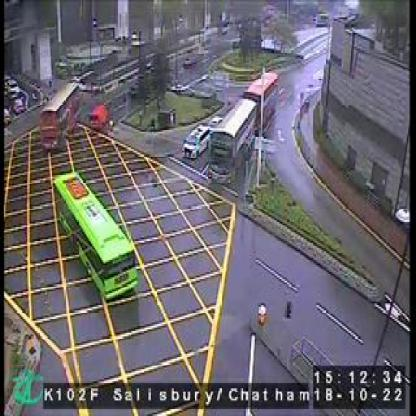Bus: (207, 98, 258, 184), (38, 82, 81, 152), (242, 72, 280, 129)
Car: (181, 124, 214, 160), (89, 102, 112, 131)
Truck: (52, 172, 139, 305)
